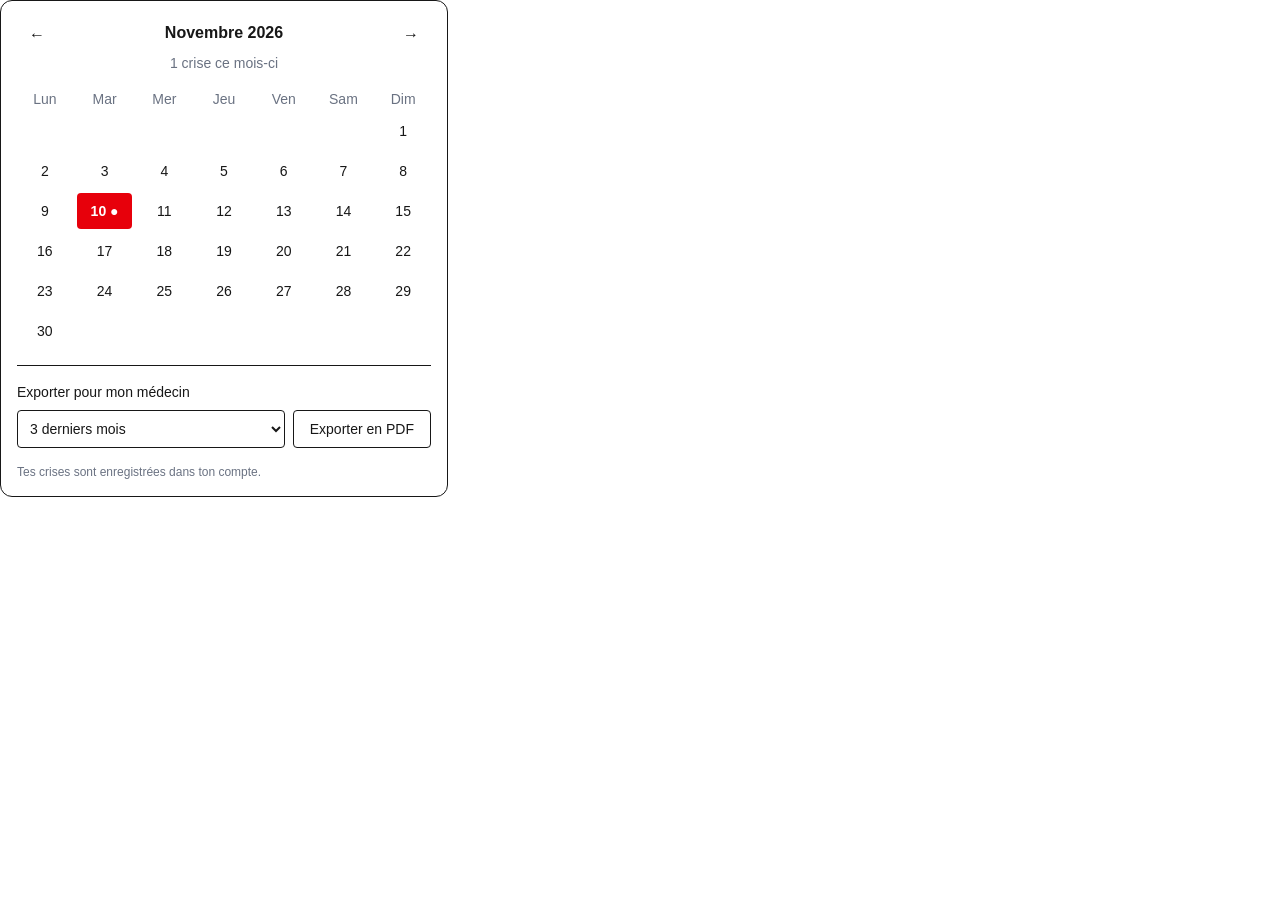
Test: suppression d'une crise › garde la crise, ferme la fenêtre et affiche une erreur si la suppression échoue
The width and height of the screenshot is (1280, 900).
Click the button "10 ●": (105, 211) [77, 193, 132, 229]
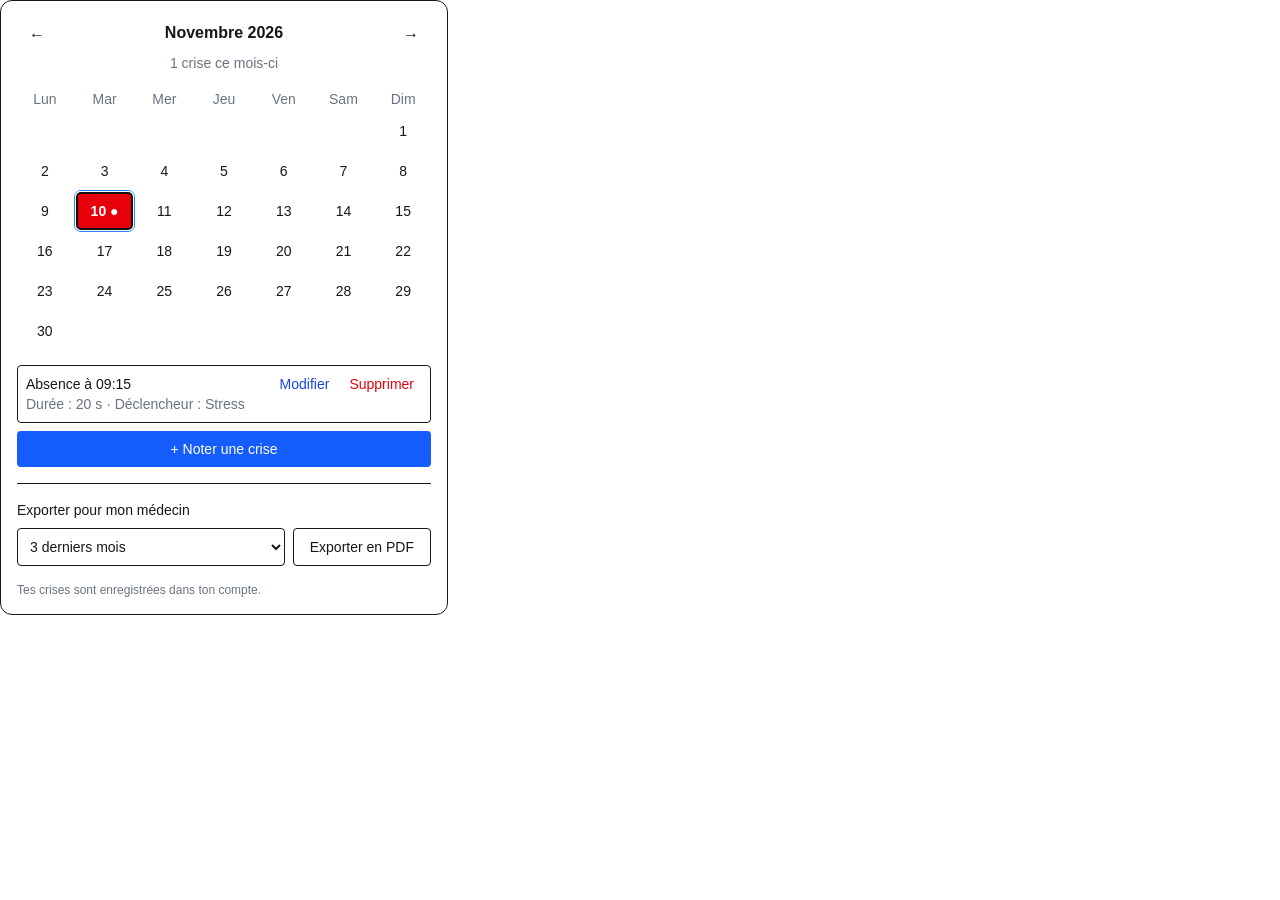
Click the button with aria-label "Supprimer cette crise": (382, 384) [341, 374, 422, 394]
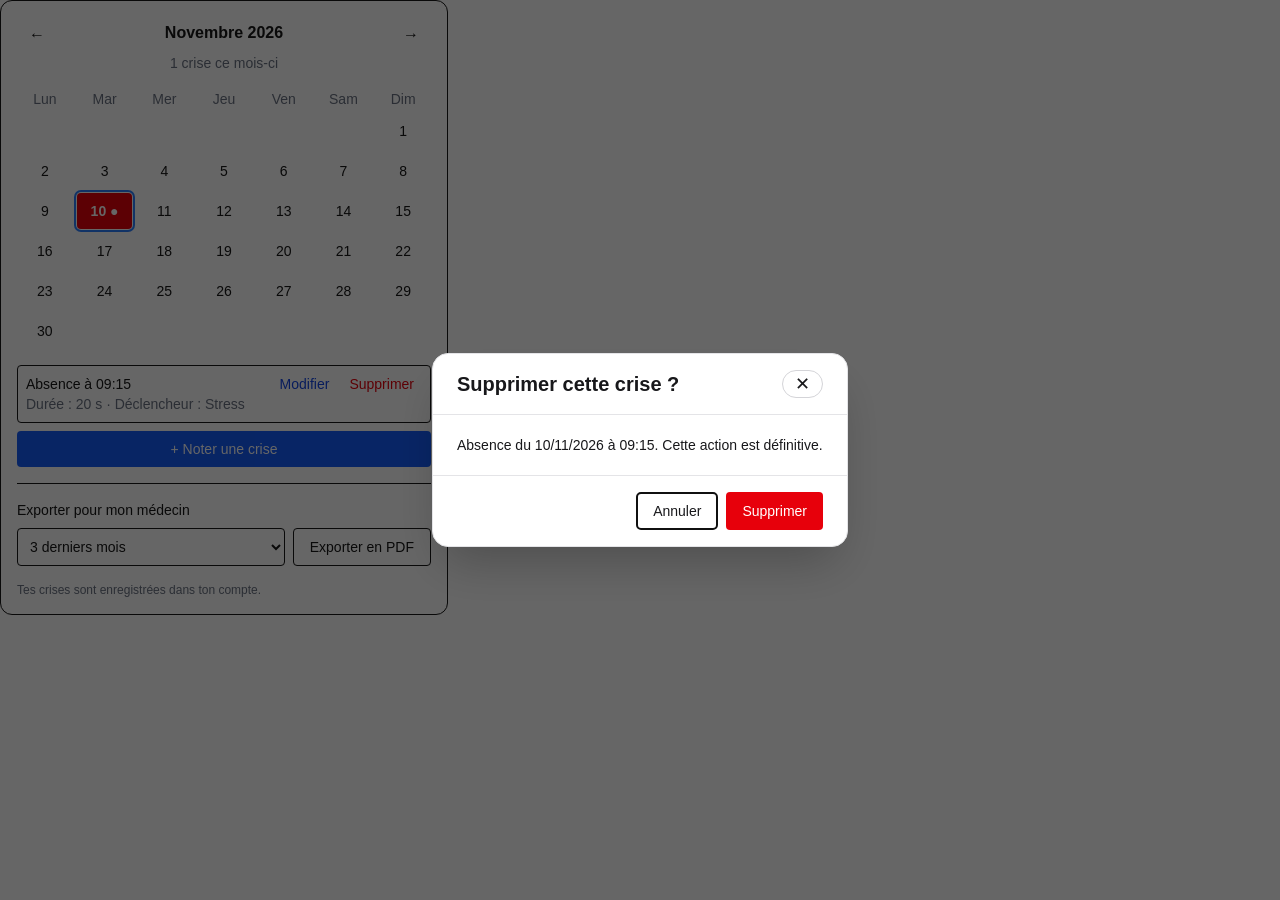
Click the button "Supprimer": (775, 511) [726, 492, 823, 530]
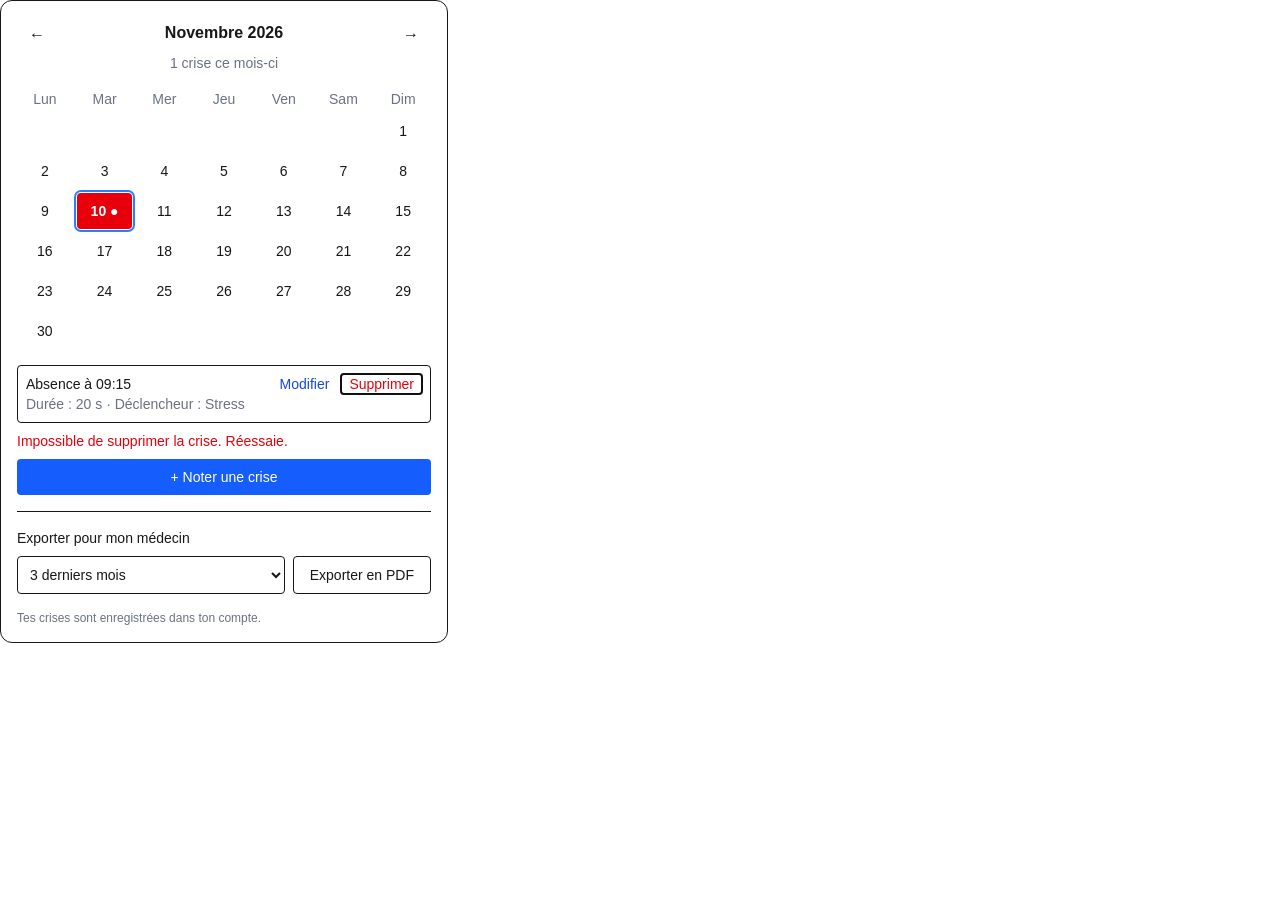
Check: the text "Absence à 09:15" is shown, box [26, 376, 131, 392]
Check: the message reads "Impossible de supprimer la crise. Réessaie.", box [17, 433, 288, 449]
Check: the text "Cette action est définitive" is gone
